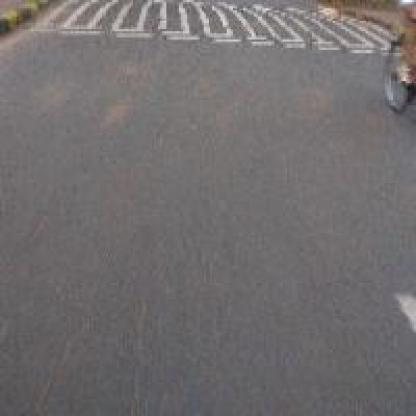Speed Bump: (4, 0, 402, 52)
